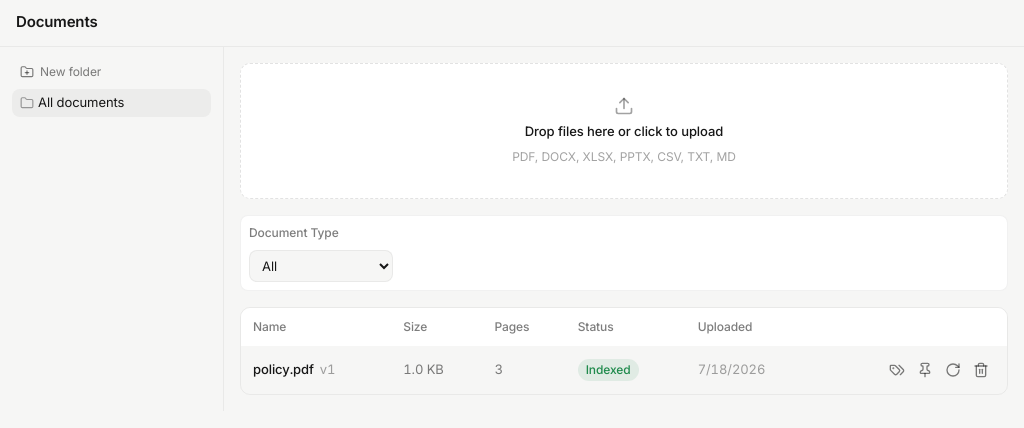
Test: a filter that narrows groups to zero hides the table instead of rendering an empty one
expect the text "policy.pdf" is shown: met, box left=253, top=361, right=314, bottom=377
expect the column heading "Name" is shown: met, box left=241, top=308, right=391, bottom=346
Select "manual" in the dropdown labelled "Document Type" at (321, 266), box left=249, top=250, right=393, bottom=282
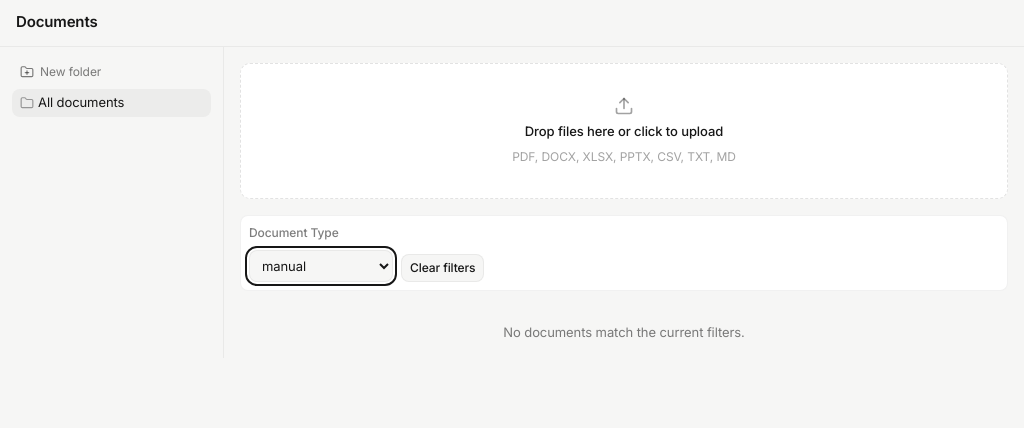
expect the text "policy.pdf" is gone: met
expect the column heading "Name" is gone: met
expect the text "No documents match the current filters." is shown: met, box left=503, top=324, right=745, bottom=340
